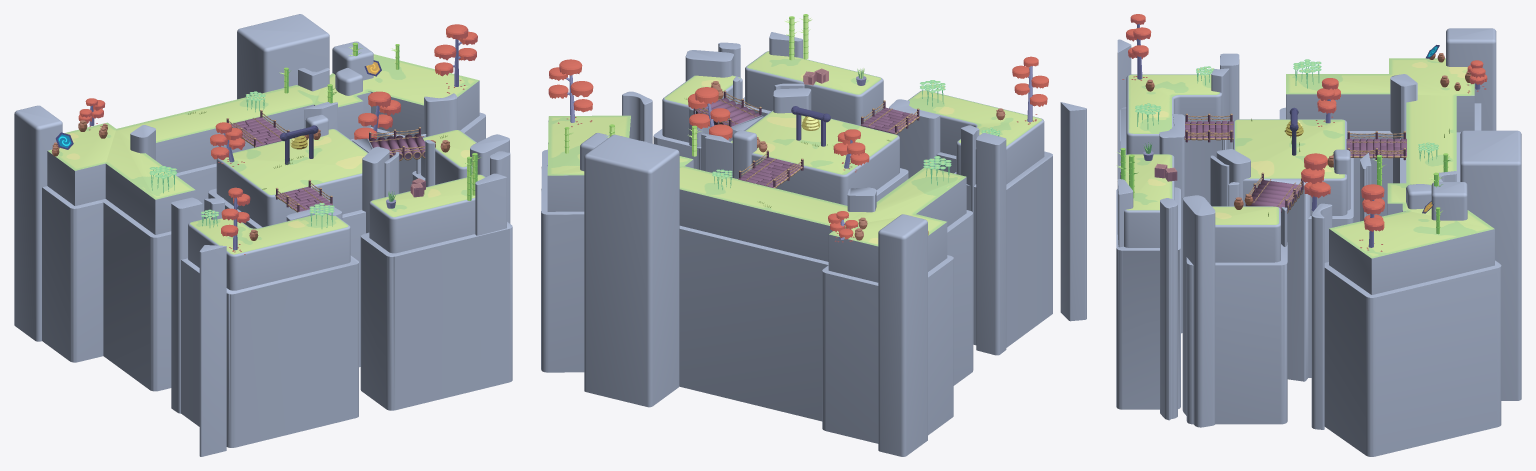
Rendered from plaza.glb.
The picture shows the model from 3 angles, left to right: view 1: azimuth 30°, elevation 25°; view 2: azimuth 150°, elevation 25°; view 3: azimuth 270°, elevation 25°; orthographic projection. The views are drawn at different scales.
Visible parts, largest first — view 1: LEDGE_4, LEDGE_3, LEDGE_0, ISLAND_0, ISLAND_1, ISLAND_3, BLOCK_18, BLOCK_17, ISLAND_4, BLOCK_19, BLOCK_09, BLOCK_16 (+19 smaller); view 2: LEDGE_0, BLOCK_19, ISLAND_0, BLOCK_18, LEDGE_3, ISLAND_1, BLOCK_09, BLOCK_17, ISLAND_4, ISLAND_3, BLOCK_15, ISLAND_2 (+16 smaller); view 3: LEDGE_0, ISLAND_0, LEDGE_2, BLOCK_19, LEDGE_4, BLOCK_13, ISLAND_1, ISLAND_3, BLOCK_06, BLOCK_14, ISLAND_2, BLOCK_05 (+22 smaller).
Part boxes in pixels (left/top/right/bottom): LEDGE_4: left=360, top=222, right=512, bottom=410; LEDGE_3: left=181, top=255, right=358, bottom=447; LEDGE_0: left=42, top=112, right=485, bottom=391; ISLAND_0: left=47, top=54, right=479, bottom=234; ISLAND_1: left=216, top=129, right=367, bottom=226; ISLAND_3: left=188, top=213, right=350, bottom=290; BLOCK_18: left=14, top=105, right=62, bottom=341; BLOCK_17: left=199, top=245, right=226, bottom=456; ISLAND_4: left=369, top=174, right=485, bottom=253; BLOCK_19: left=237, top=14, right=329, bottom=99; BLOCK_09: left=171, top=197, right=202, bottom=413; BLOCK_16: left=475, top=173, right=506, bottom=235; LEDGE_0: left=541, top=149, right=973, bottom=443; BLOCK_19: left=584, top=134, right=679, bottom=407; ISLAND_0: left=547, top=115, right=966, bottom=282; BLOCK_18: left=878, top=214, right=927, bottom=456; LEDGE_3: left=936, top=151, right=1052, bottom=347; ISLAND_1: left=730, top=110, right=899, bottom=205; BLOCK_09: left=976, top=133, right=1006, bottom=355; BLOCK_17: left=1060, top=102, right=1086, bottom=321; ISLAND_4: left=745, top=51, right=883, bottom=125; ISLAND_3: left=908, top=90, right=1044, bottom=184; BLOCK_15: left=889, top=99, right=940, bottom=178; ISLAND_2: left=662, top=75, right=742, bottom=142; LEDGE_0: left=1279, top=103, right=1501, bottom=456; ISLAND_0: left=1286, top=58, right=1494, bottom=294; LEDGE_2: left=1186, top=242, right=1287, bottom=424; BLOCK_19: left=1460, top=130, right=1521, bottom=400; LEDGE_4: left=1116, top=187, right=1180, bottom=409; BLOCK_13: left=1182, top=195, right=1215, bottom=427; ISLAND_1: left=1233, top=119, right=1347, bottom=215; ISLAND_3: left=1126, top=74, right=1222, bottom=154; BLOCK_06: left=1264, top=178, right=1310, bottom=381; BLOCK_14: left=1160, top=198, right=1177, bottom=420; ISLAND_2: left=1212, top=206, right=1280, bottom=262; BLOCK_05: left=1311, top=203, right=1332, bottom=429.
Size of the model in its own units: 68.42 by 39.63 by 56.44.
Materials: 11 (3 with a texture image).
